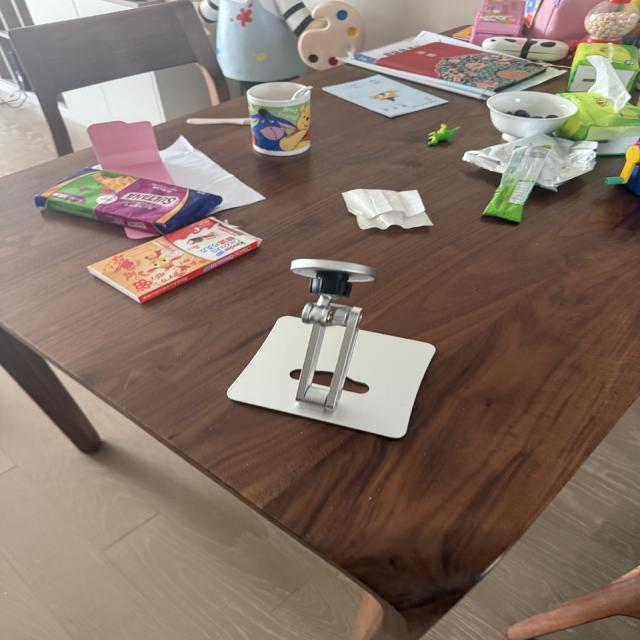phone holder: (225, 234, 438, 453)
